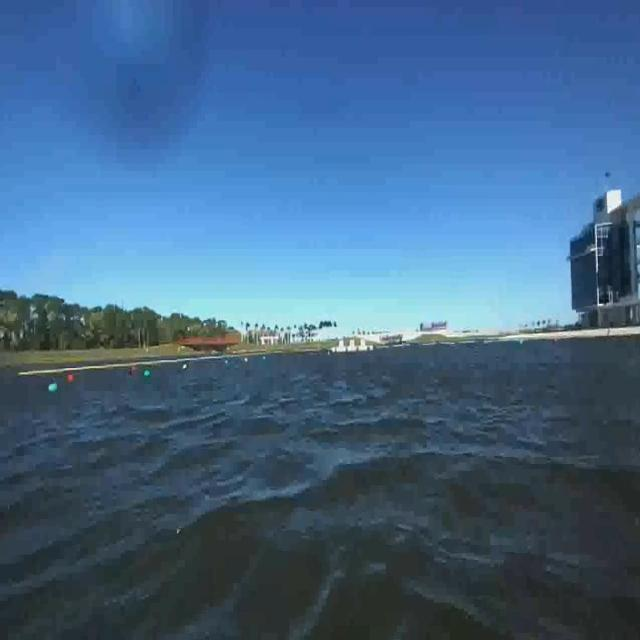green-buoy: (48, 383, 58, 392), (144, 368, 152, 378)
red-buoy: (68, 374, 74, 380)
